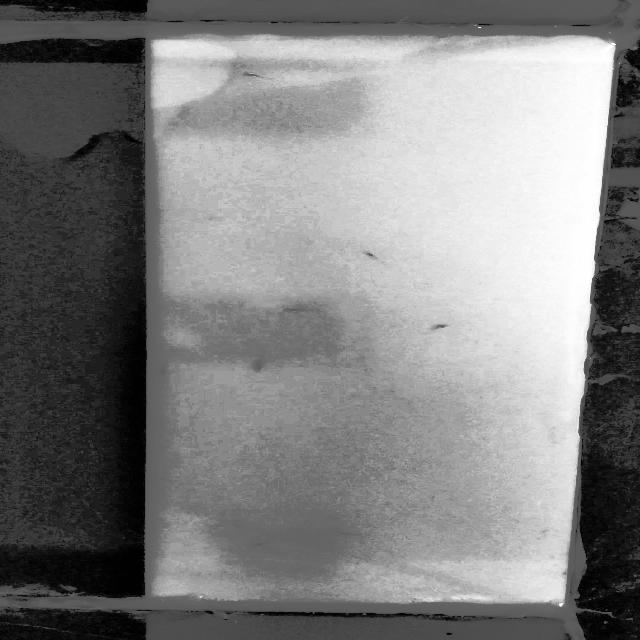shrimp: (358, 249, 392, 266), (278, 303, 313, 316), (254, 356, 278, 372), (428, 319, 453, 334), (241, 71, 277, 81), (330, 530, 370, 537), (251, 541, 284, 548), (154, 367, 176, 376)
